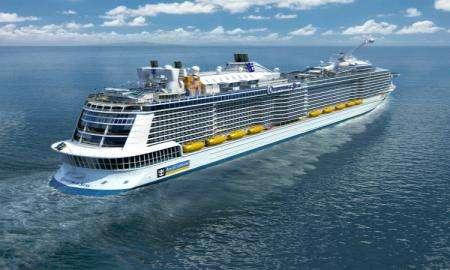youlun: (47, 40, 398, 193)
